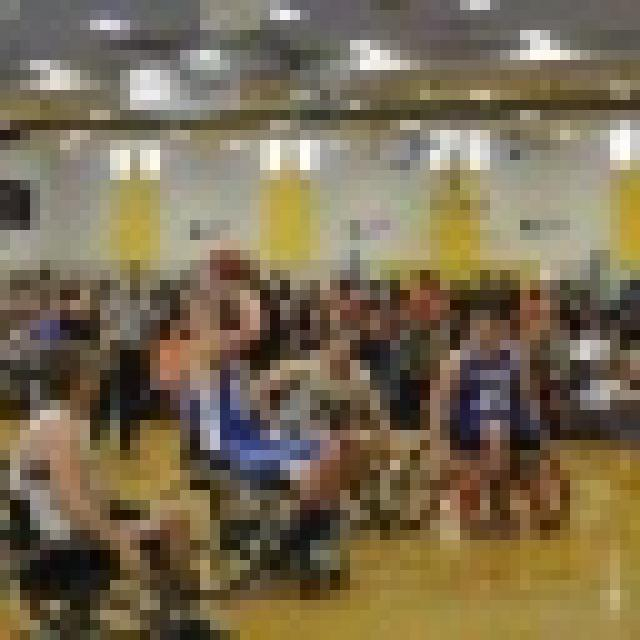wheelchairs: (12, 462, 213, 639), (162, 440, 348, 598), (434, 417, 581, 538)
